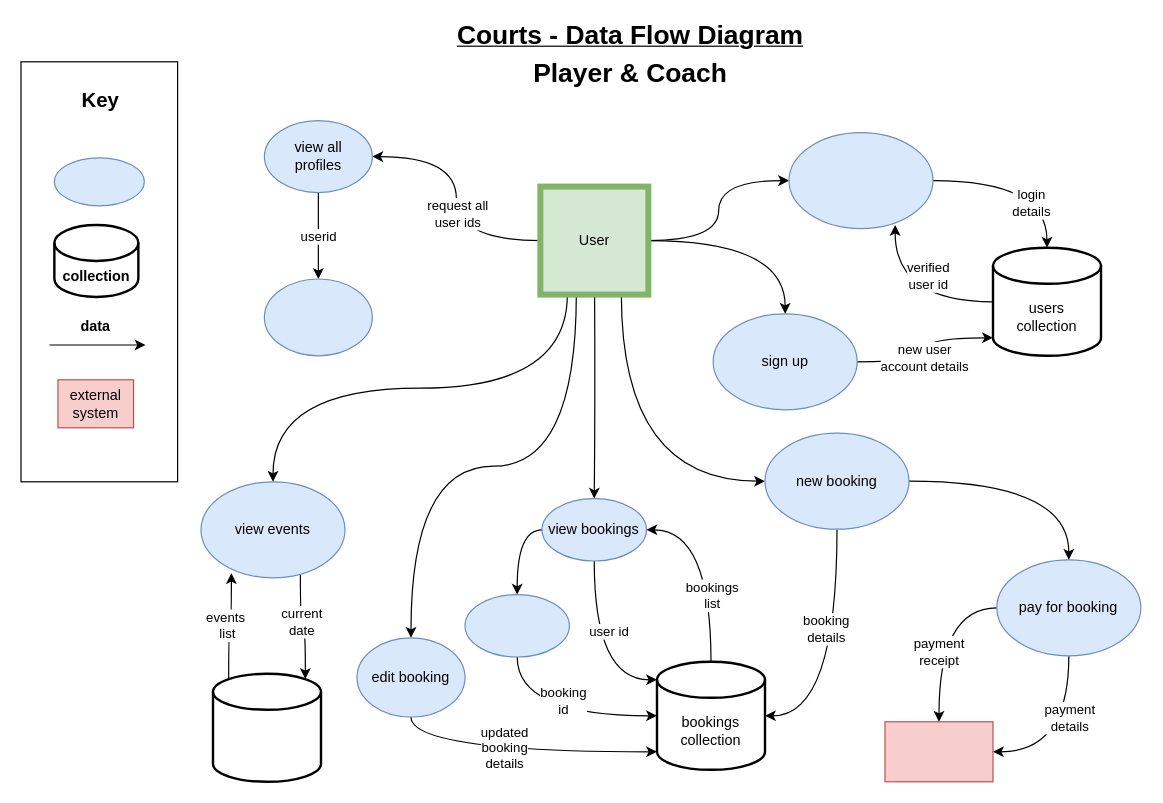
Image size: 1163x803. Some labels were removed from this diagram. Each missing label, with the box of its shape:
Bank: (884, 721, 993, 782)
events collection: (211, 672, 322, 782)
Login: (788, 131, 933, 229)
process: (53, 157, 144, 206)
view booking: (464, 593, 569, 657)
view profile: (263, 278, 372, 356)
